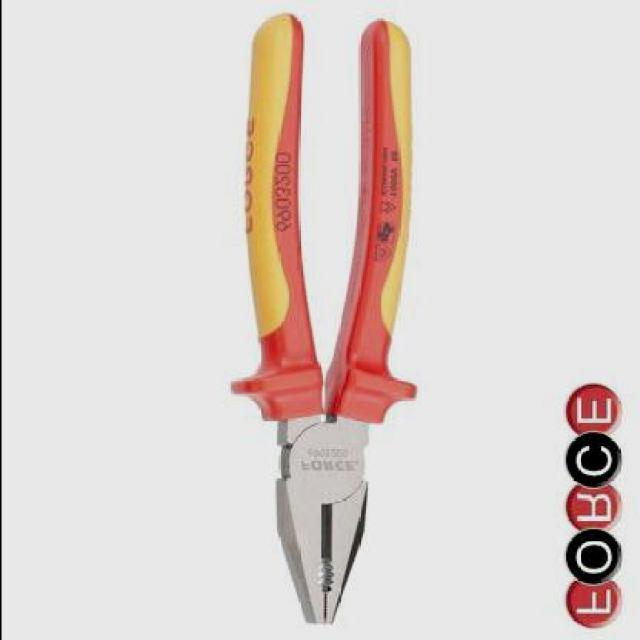pliers: (226, 17, 420, 626)
